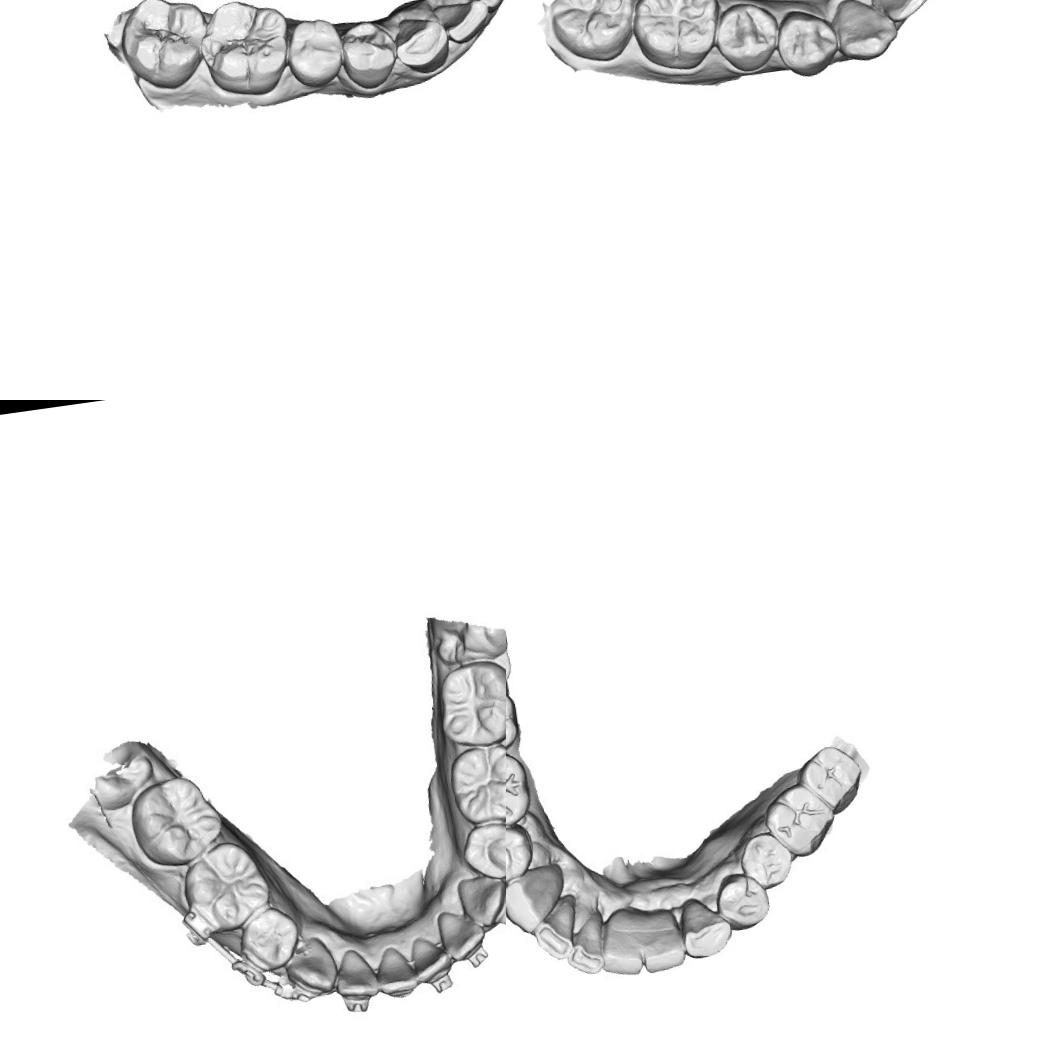canine: (828, 0, 901, 66), (506, 864, 566, 934), (392, 11, 453, 77), (678, 894, 736, 963), (282, 938, 339, 993), (457, 871, 506, 924)
incisor: (637, 901, 692, 973), (599, 904, 651, 977), (563, 904, 614, 972), (527, 895, 579, 958), (326, 944, 380, 999), (436, 907, 486, 960), (373, 946, 422, 1000), (438, 0, 490, 41), (410, 934, 454, 982), (870, 0, 932, 26), (453, 0, 506, 12)
molar: (112, 0, 214, 102), (198, 0, 294, 100), (626, 0, 728, 77), (183, 842, 270, 929), (138, 781, 221, 867), (543, 0, 641, 68), (766, 783, 836, 860), (439, 663, 506, 742), (801, 742, 866, 815), (451, 742, 506, 822), (506, 745, 526, 828)
premolar: (709, 0, 781, 76), (774, 7, 840, 82), (334, 15, 399, 90), (284, 13, 345, 91), (241, 905, 300, 968), (713, 874, 769, 931), (739, 831, 791, 890), (460, 821, 506, 877), (506, 820, 536, 881)
